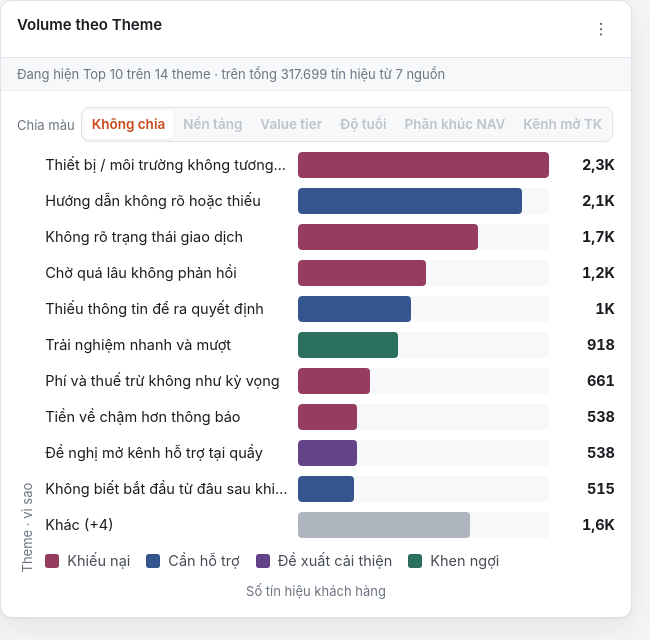
it: QuantifyLibrary — thẻ: click-anywhere mở chi tiết, menu ⋮ chứa 3 hành động (S2.6b) › item show (q1): menu ⋮ có đúng 3 mục Xem chi tiết/Sửa/Xóa — KHÔNG còn CountFilter/toggle/Nhân bản lộ thiên
expect the text "Xem chi tiết" is not shown: met
Click the button with test id "qmenu-q1". click: (601, 29)
box: [587, 15, 615, 43]
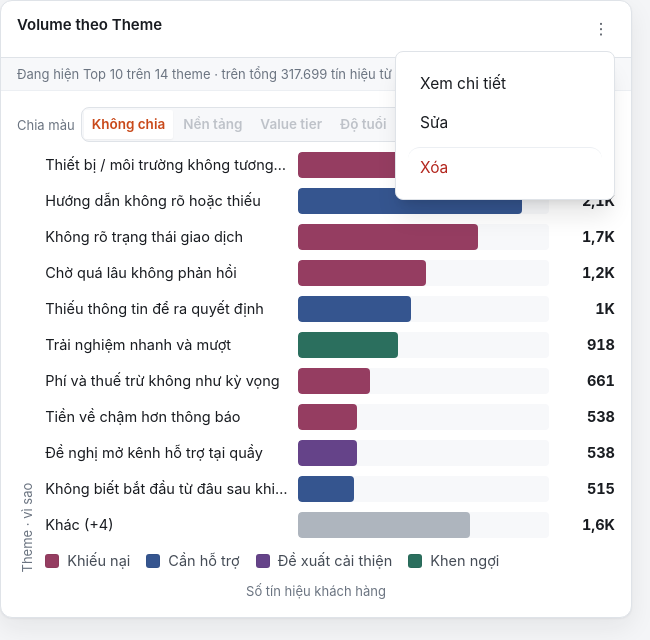
expect the menu item "Xem chi tiết" is shown: met, box [408, 64, 602, 103]
expect the menu item "Sửa" is shown: met, box [408, 103, 602, 143]
expect the menu item with test id "qdelete-q1" is shown: met, box [408, 146, 602, 187]
